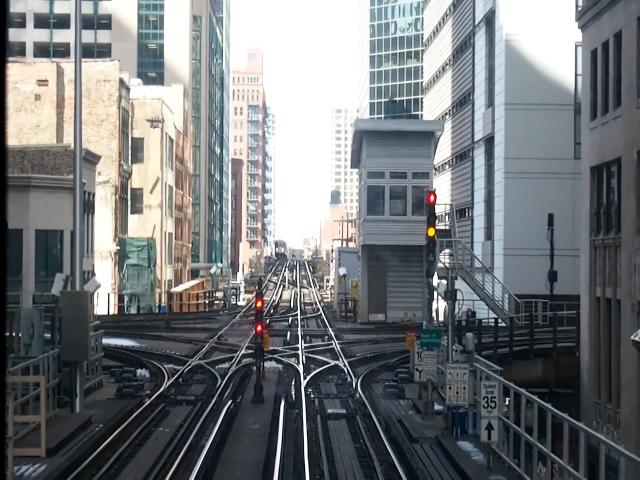signal light: (424, 187, 439, 281), (253, 289, 269, 372)
